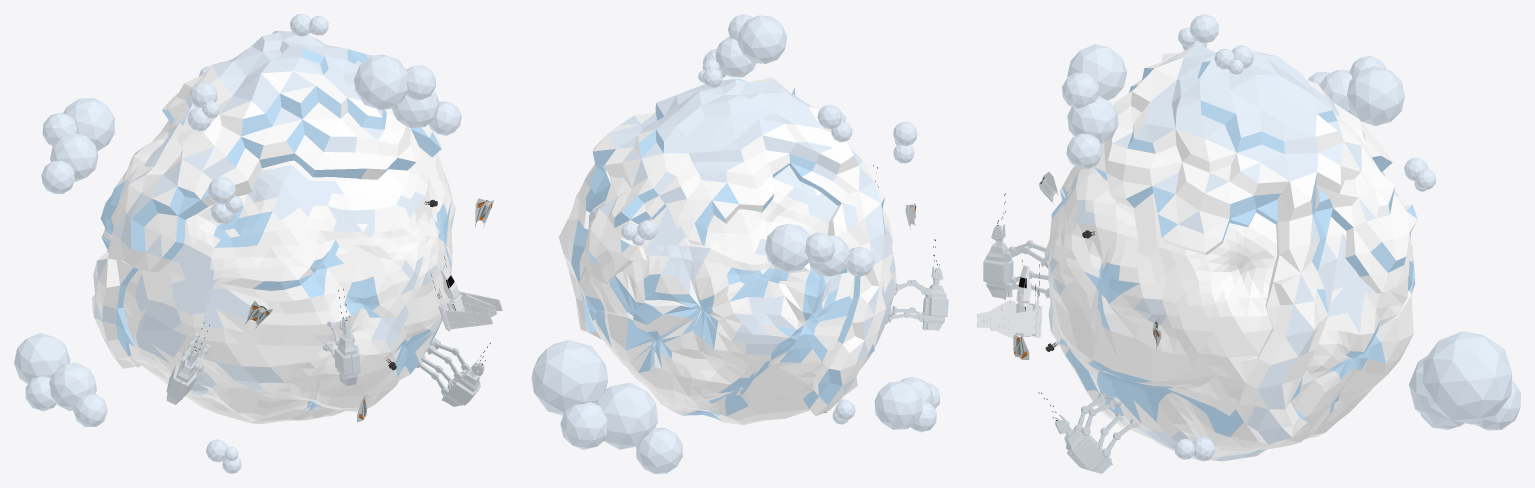
File: hothPlanet.glb
3 views of the same model, side by side, from view 1: azimuth 30°, elevation 25°; view 2: azimuth 150°, elevation 25°; view 3: azimuth 270°, elevation 25° (orthographic). The views are drawn at different scales.
Parts seen in each view (by area): view 1: Hoth, Mountains, Snowspeeder03; view 2: Mountains, Hoth; view 3: Mountains, Hoth, Snowspeeder03.
Boxes of the visible parts, x1=… form: Hoth: x1=100, y1=108, x2=455, y2=424; Mountains: x1=14, y1=14, x2=502, y2=473; Snowspeeder03: x1=245, y1=198, x2=493, y2=422; Mountains: x1=531, y1=14, x2=948, y2=473; Hoth: x1=578, y1=165, x2=896, y2=425; Mountains: x1=977, y1=14, x2=1520, y2=473; Hoth: x1=1044, y1=166, x2=1415, y2=461; Snowspeeder03: x1=1013, y1=172, x2=1161, y2=359.
Bounding box in the file's own units: 19.95 × 18.62 × 21.22.
3 materials, 3 textured.
